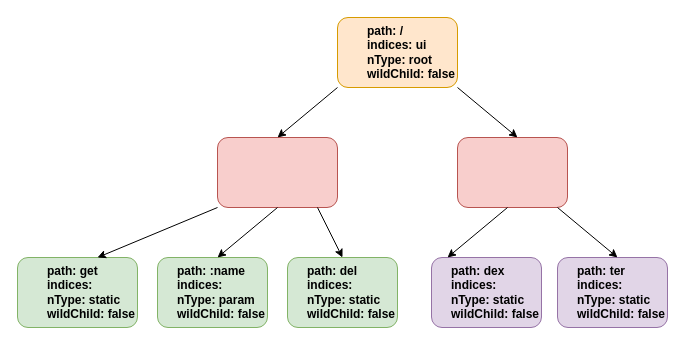
This 685x345 diagram has some shape labels left out. Each missing label, with the centre of its shape:
path: in/ indices: dt nType: static wildChild: false: the point at 512,172
path: user/ indices: gd nType: static wildChild: true: the point at 277,172
